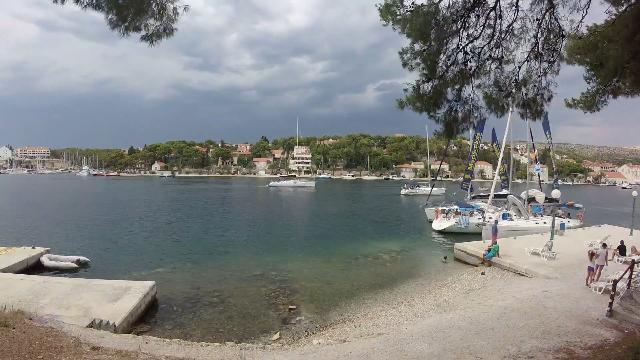Sailboat: (260, 168, 324, 192), (397, 178, 453, 200)
speedboat: (155, 168, 177, 182)
